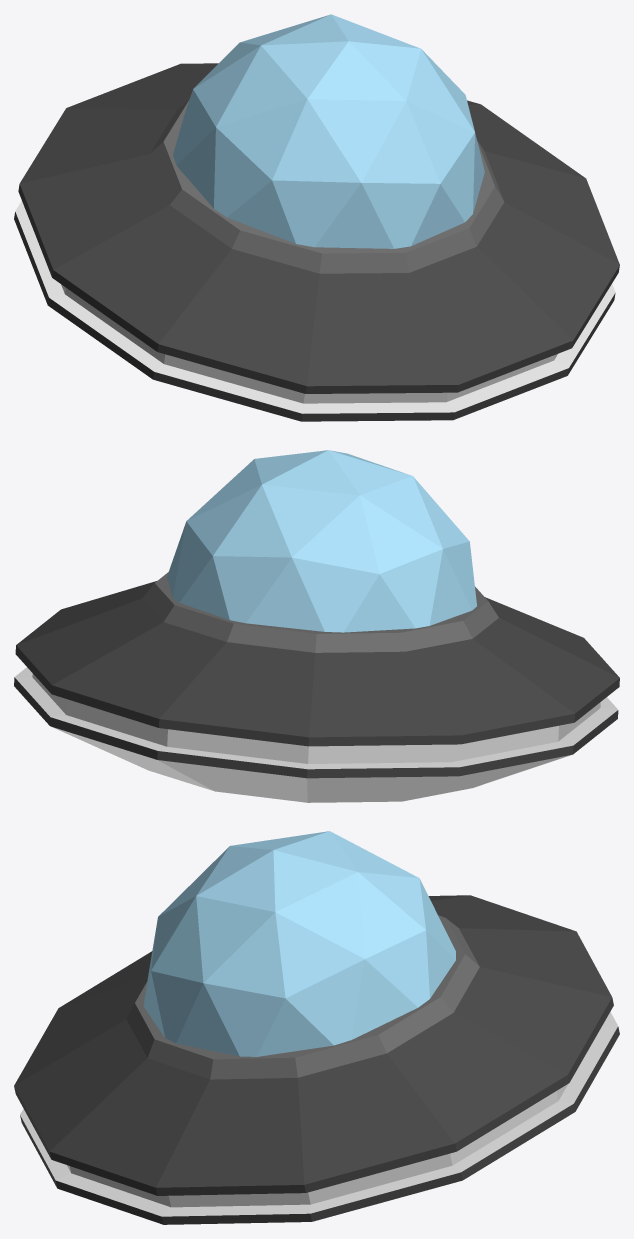
The model's file is NLO.fbx.
3 views of the same model, one above another, from view 1: azimuth 30°, elevation 25°; view 2: azimuth 150°, elevation 25°; view 3: azimuth 270°, elevation 25° (orthographic).
Visible parts, largest first — view 1: Icosphere.003; view 2: Icosphere.003; view 3: Icosphere.003.
Boxes of the visible parts, left/top/right/bottom form: Icosphere.003: left=14, top=14, right=619, bottom=421; Icosphere.003: left=14, top=450, right=619, bottom=802; Icosphere.003: left=14, top=831, right=619, bottom=1224.
Size of the model in its own units: 1275 by 726 by 1268.
